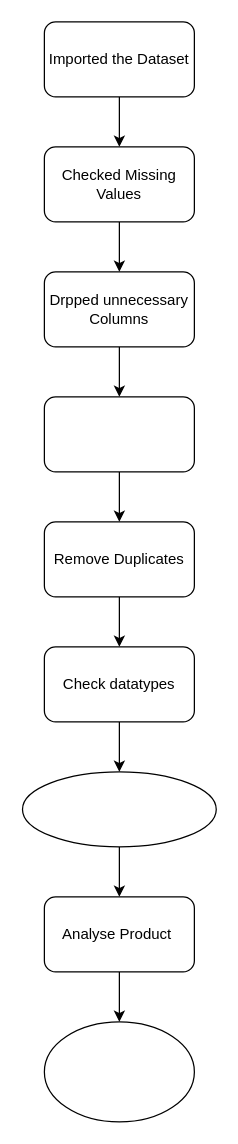
Some shapes in this 238 by 1144 pixel diagram are drawn without their labels. The shapes that lost their labels are listed below. From the top down, each one's box as (x1, y1, x2, y2) in pixels, then its label:
(43, 396, 194, 472): Convert Order Date -> Date time format
(21, 771, 216, 847): Add new Columns
(43, 1021, 194, 1122): Saved Clean Dataset
